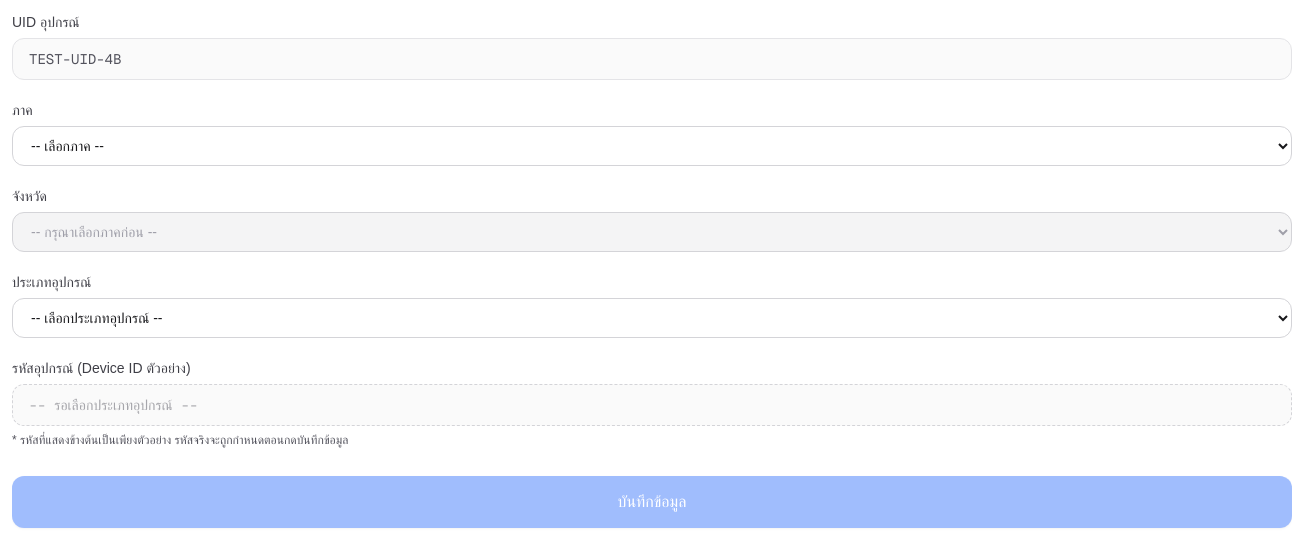
Test case: Phase 4B: RegisterForm Unit & Component Tests › เปลี่ยนประเภท → เรียก next ใหม่ ช่อง Device ID อัปเดต
Expected: the field with test id "reg-sample-device-id" is empty, [12,384,1292,426]
Select KSK
Select "Kiosk (KSK)" in the dropdown with test id "reg-device-type" at (652, 318), box [12,298,1292,338]
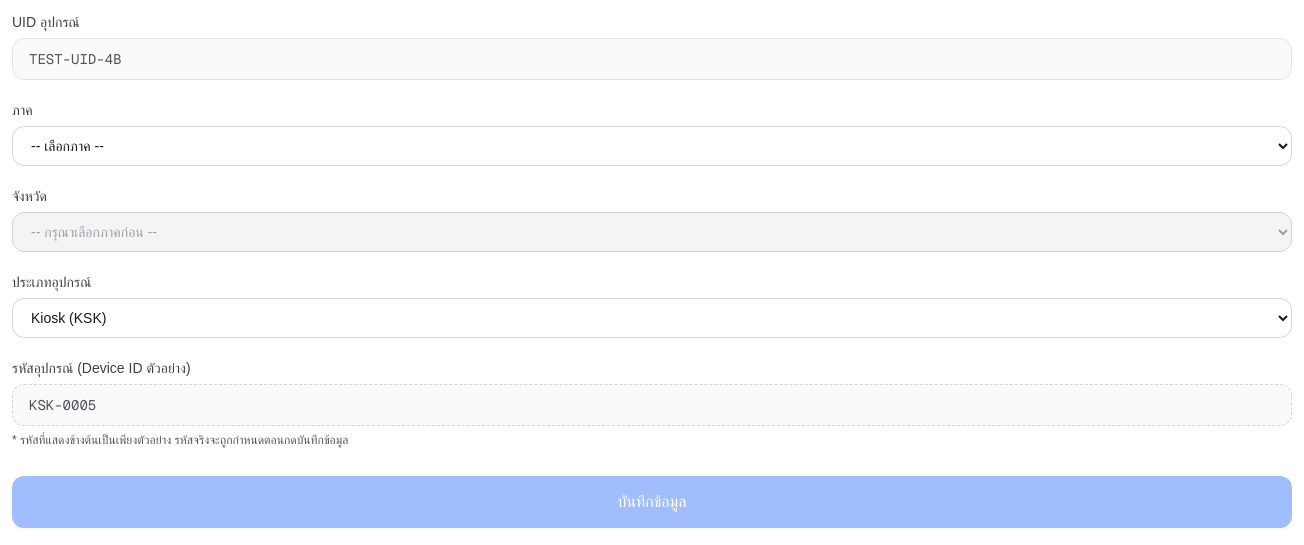
Expected: the field with test id "reg-sample-device-id" holds "KSK-0005", [12,384,1292,426]
Select "Keypad (KPD)" in the dropdown with test id "reg-device-type" at (652, 318), box [12,298,1292,338]
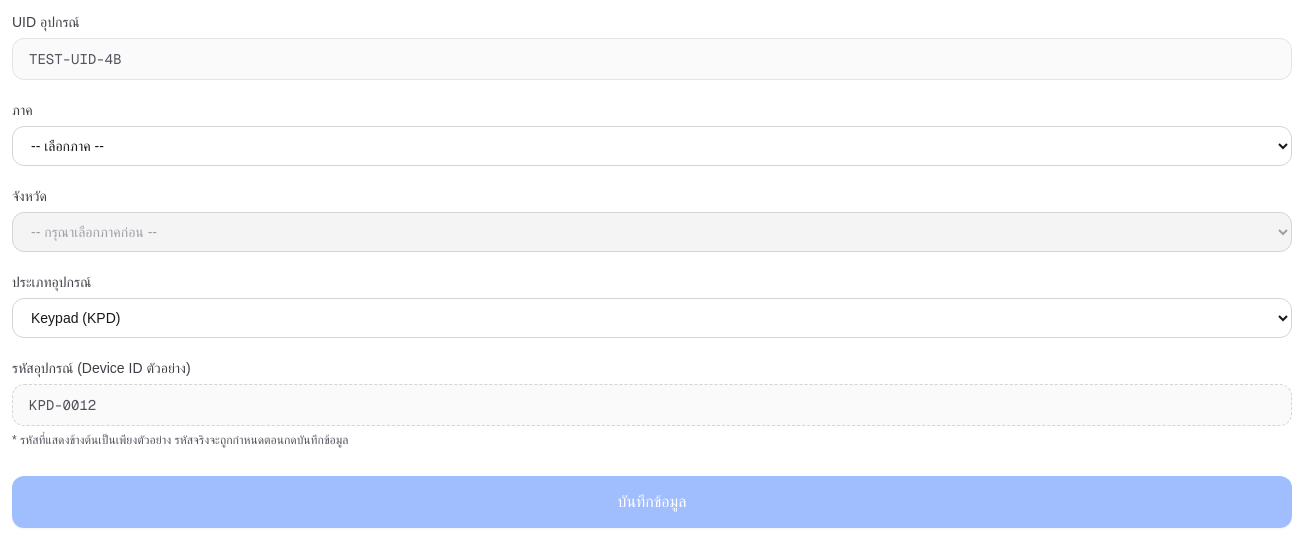
Expected: the field with test id "reg-sample-device-id" holds "KPD-0012", [12,384,1292,426]
